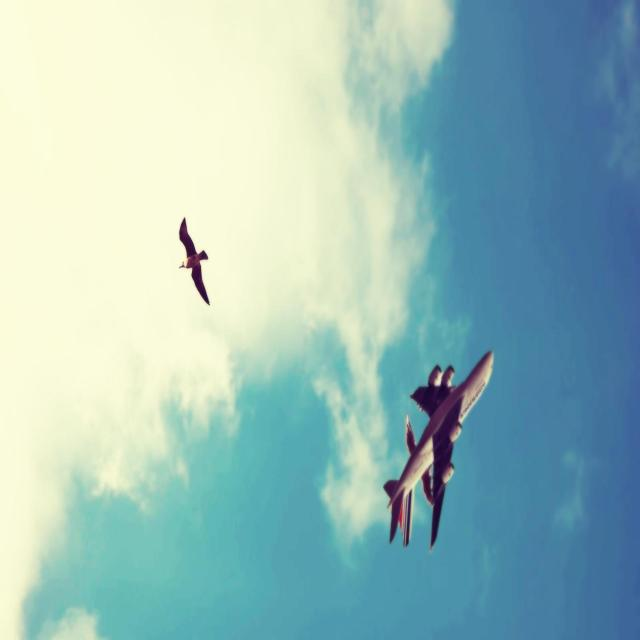airplane: (383, 348, 494, 553)
